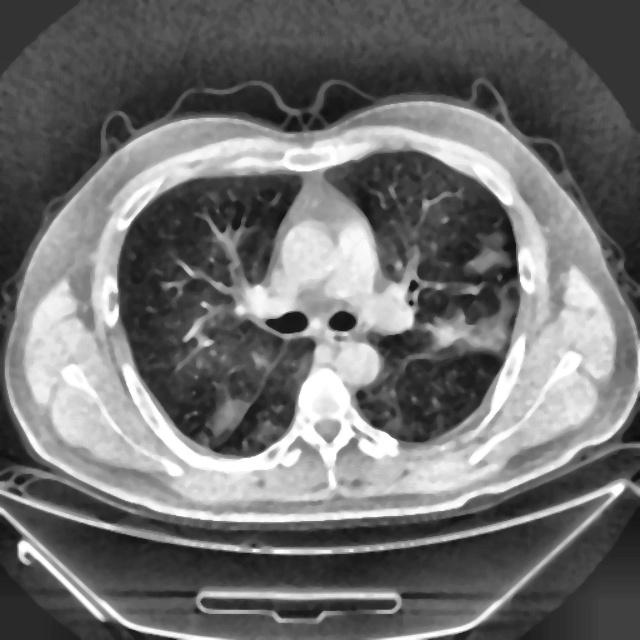covid: (4, 85, 638, 530)
